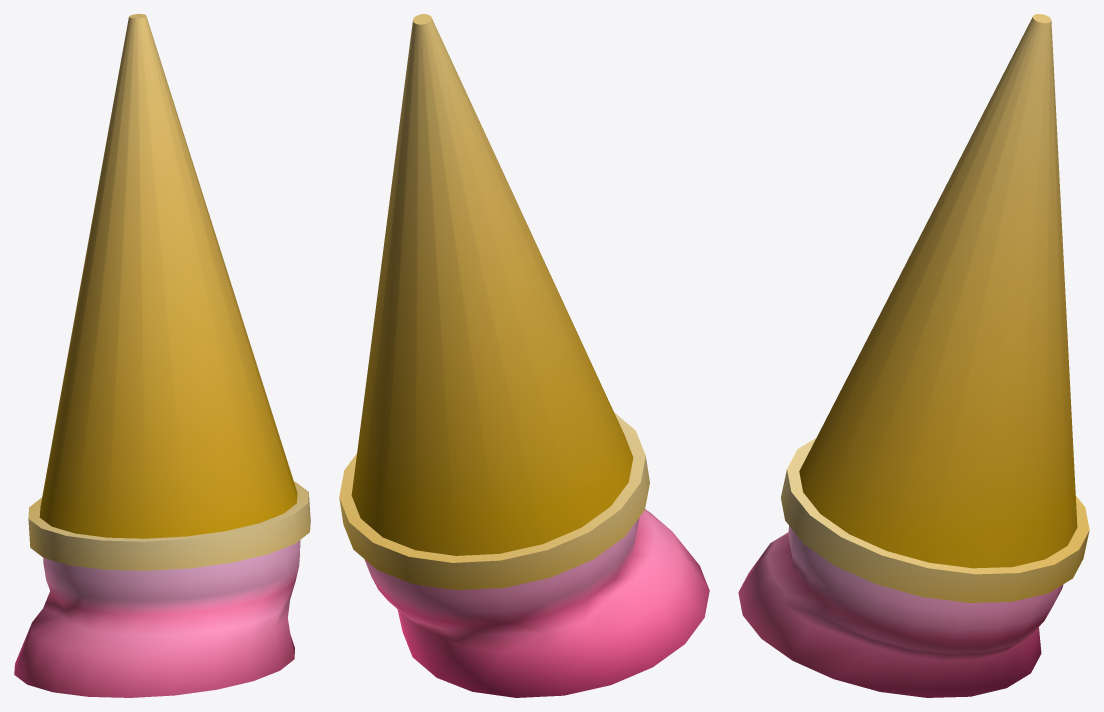
The model's file is IceCream.fbx.
3 renders of one model, left to right at view 1: azimuth 30°, elevation 25°; view 2: azimuth 150°, elevation 25°; view 3: azimuth 270°, elevation 25°, orthographic. The views are drawn at different scales.
Parts seen in each view (by area): view 1: IceCream; view 2: IceCream; view 3: IceCream.
Part boxes in pixels (x1=…): IceCream: x1=14, y1=14, x2=310, y2=697; IceCream: x1=339, y1=14, x2=709, y2=697; IceCream: x1=738, y1=14, x2=1089, y2=697.
Bounding box in the file's own units: 107 × 220 × 106.
1 material, 1 textured.
